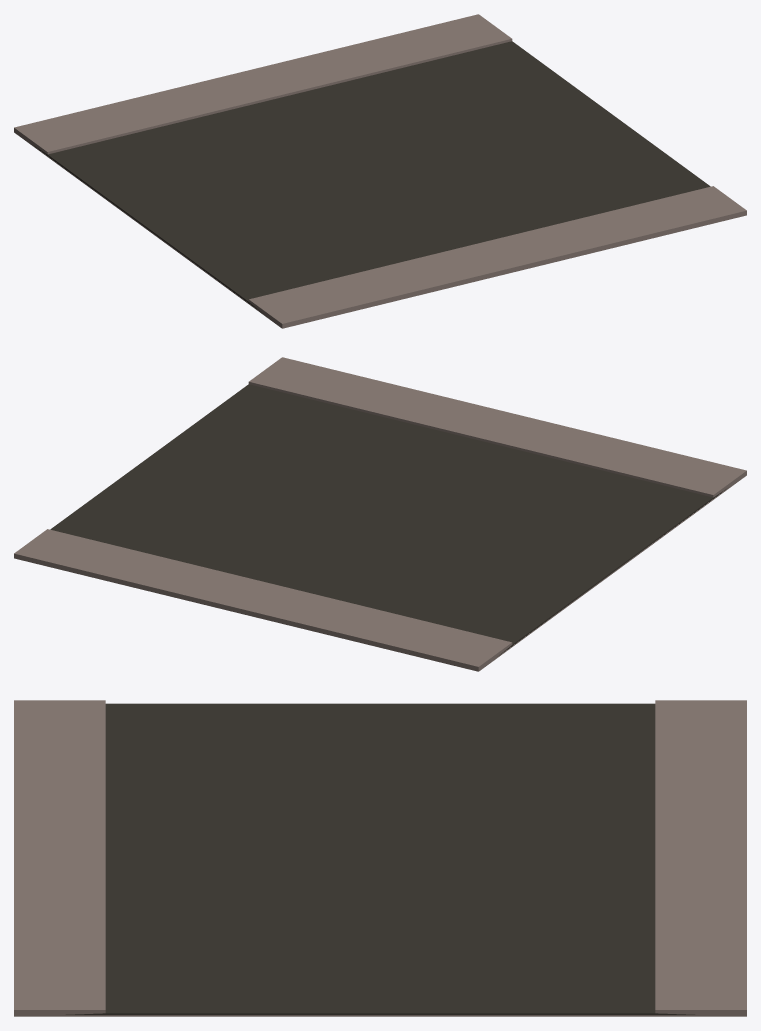
File: Env_2lane_Crosswalk_col.fbx
3 renders of one model, top to bottom at view 1: azimuth 30°, elevation 25°; view 2: azimuth 150°, elevation 25°; view 3: azimuth 270°, elevation 25°, orthographic. The views are drawn at different scales.
Visible parts, largest first — view 1: Env_2lane_Crosswalk_col; view 2: Env_2lane_Crosswalk_col; view 3: Env_2lane_Crosswalk_col.
Boxes of the visible parts, x1,y1,x2,y2 form: Env_2lane_Crosswalk_col: (14, 14, 746, 328); Env_2lane_Crosswalk_col: (14, 357, 746, 671); Env_2lane_Crosswalk_col: (14, 700, 746, 1016).
Bounding box in the file's own units: 2000 × 20 × 2000.
